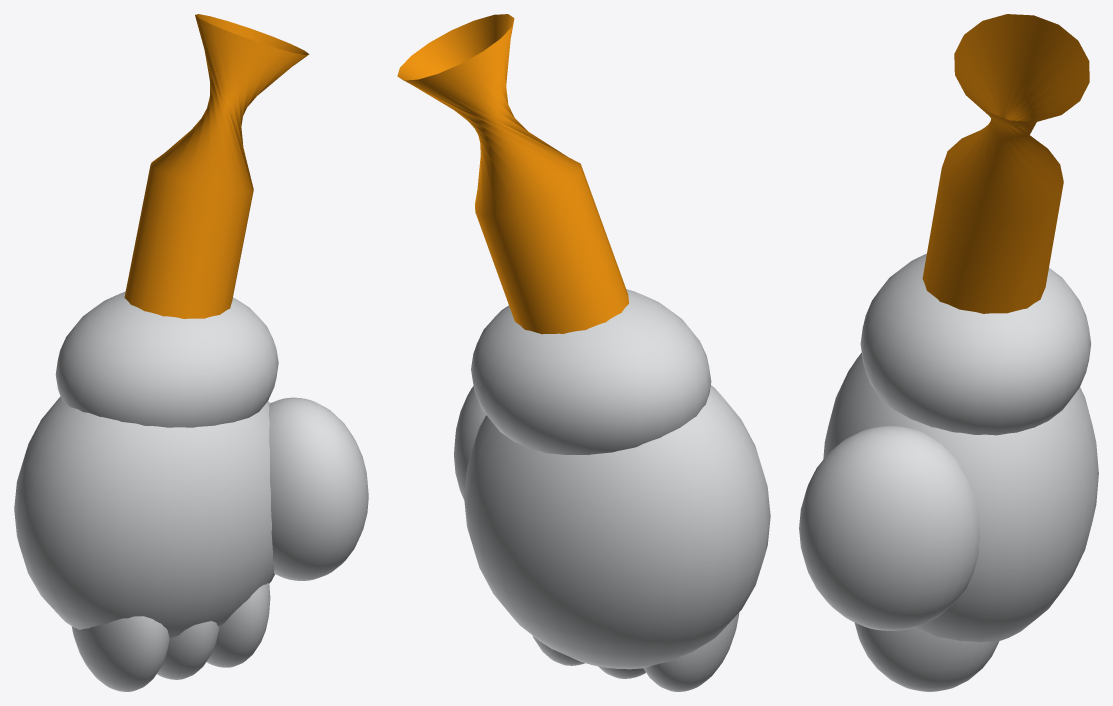
The model's file is tails-arm-l.obj.
3 renders of one model, left to right at view 1: azimuth 30°, elevation 25°; view 2: azimuth 150°, elevation 25°; view 3: azimuth 270°, elevation 25°, orthographic. The views are drawn at different scales.
Parts seen in each view (by area): view 1: glove, arm; view 2: glove, arm; view 3: glove, arm.
Part boxes in pixels (box(x1,y1,x2,y2)): glove: box(14, 396, 368, 691); arm: box(55, 14, 309, 427); glove: box(454, 385, 770, 691); arm: box(397, 14, 711, 454); glove: box(799, 353, 1098, 691); arm: box(860, 14, 1091, 435).
Bounding box in the file's own units: 0.5101 × 0.9912 × 0.39.
